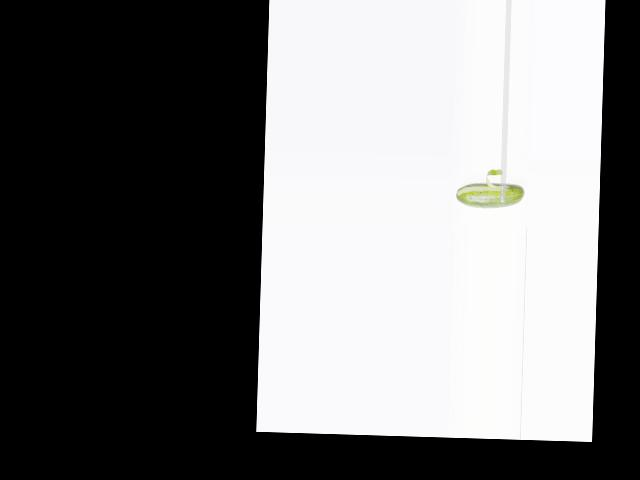cucumber: (455, 181, 525, 209)
